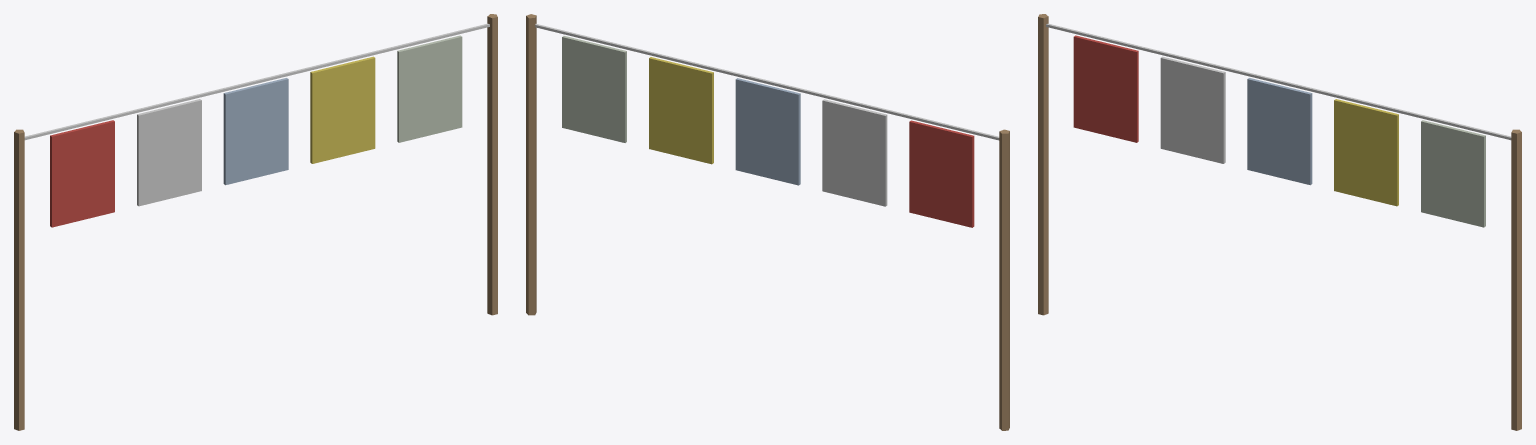
Rendered from Camasir_Ipi.glb.
3 renders of one model, left to right at view 1: azimuth 30°, elevation 25°; view 2: azimuth 150°, elevation 25°; view 3: azimuth 330°, elevation 25°, orthographic.
Visible parts, largest first — view 1: Camasir_Ipi; view 2: Camasir_Ipi; view 3: Camasir_Ipi.
Boxes of the visible parts, x1,y1,x2,y2 form: Camasir_Ipi: (14, 14, 497, 430); Camasir_Ipi: (526, 14, 1009, 430); Camasir_Ipi: (1038, 14, 1521, 430).
Bounding box in the file's own units: 3.06 × 1.8 × 0.0543.
